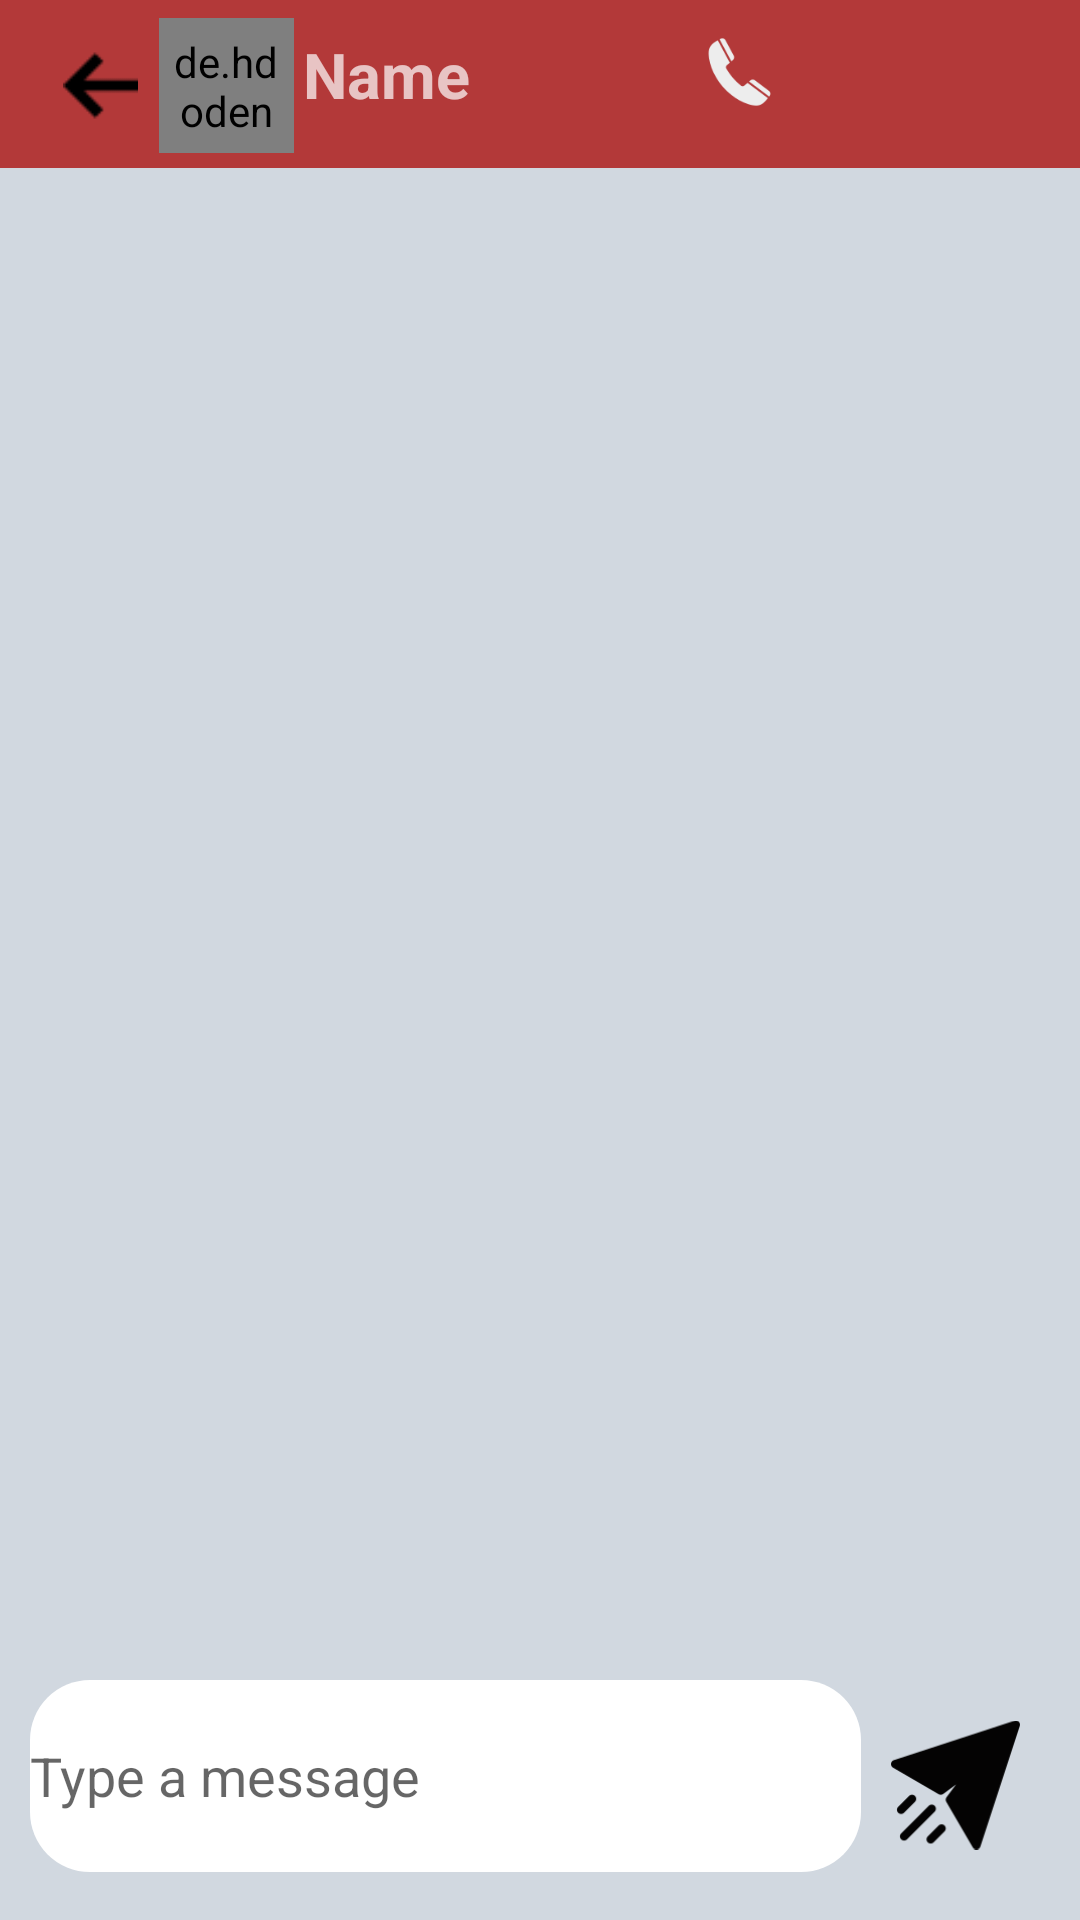

Icons on this 1080x1920 Android screen, each with the point to tap as (x=x, y=y):
call: (x=739, y=72)
leftarrow: (x=100, y=85)
send: (x=955, y=1785)
